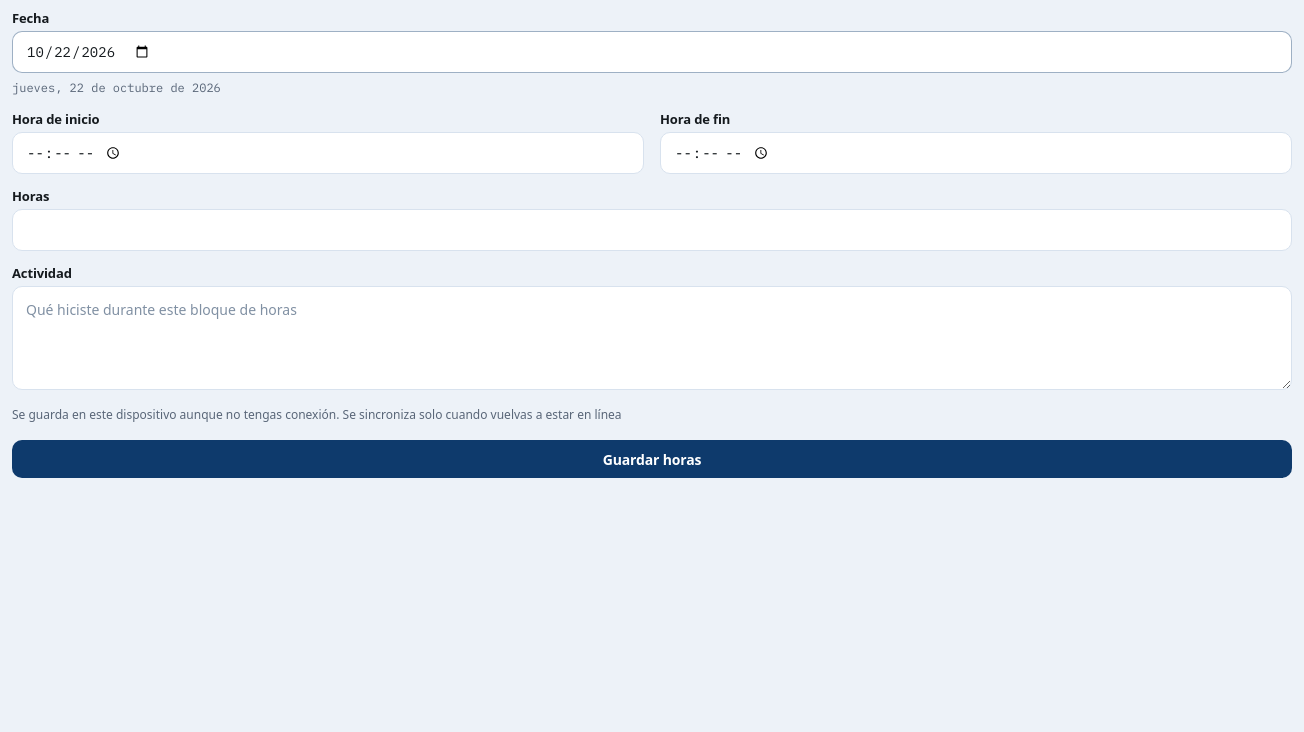
HourLogForm — componente visual e integración con guardado local › muestra errores de validación si se envía vacío
This screenshot has width=1304, height=732.
Click the button "Guardar horas".
click(652, 459)  # box [12,440,1292,478]
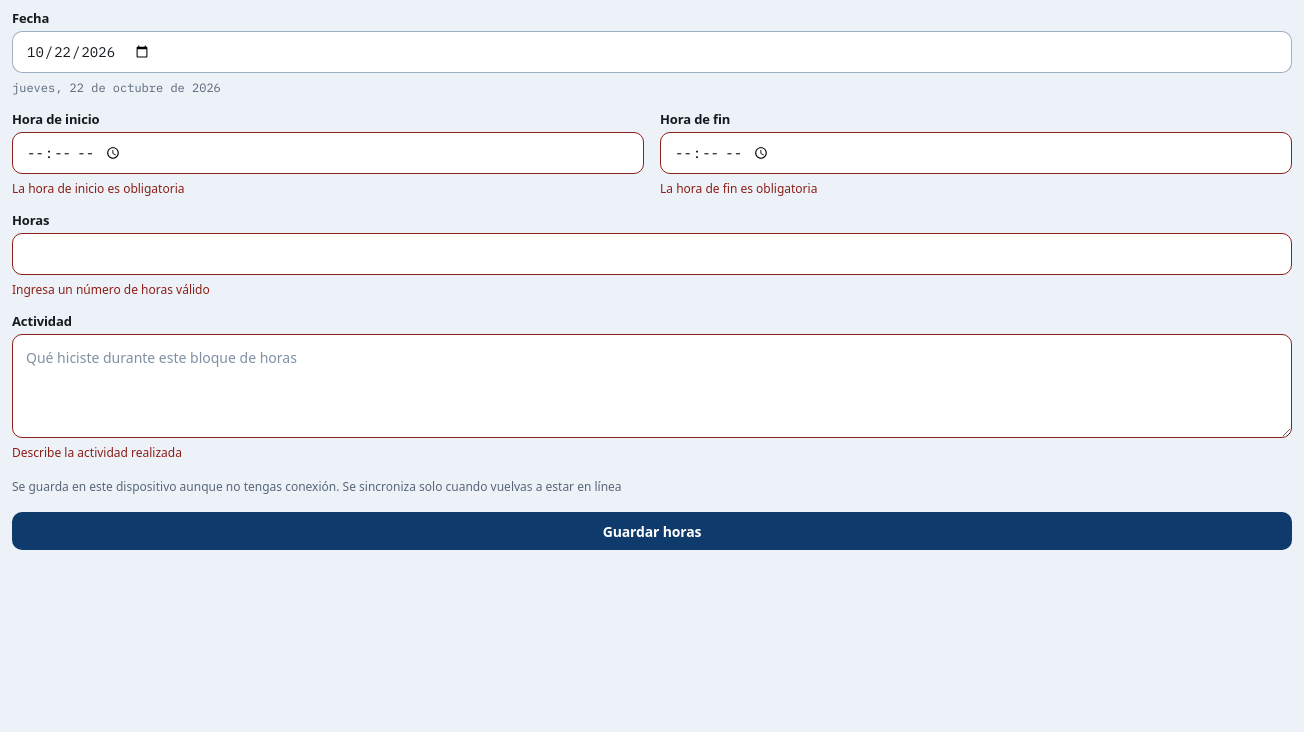
Check: the text "La hora de inicio es obligatoria" is shown, box [12,180,184,197]
Check: the text "La hora de fin es obligatoria" is shown, box [660,180,817,197]
Check: the text "Describe la actividad realizada" is shown, box [12,444,182,461]
